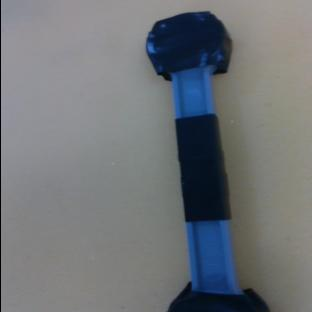part_3_bad: (127, 7, 268, 312)
